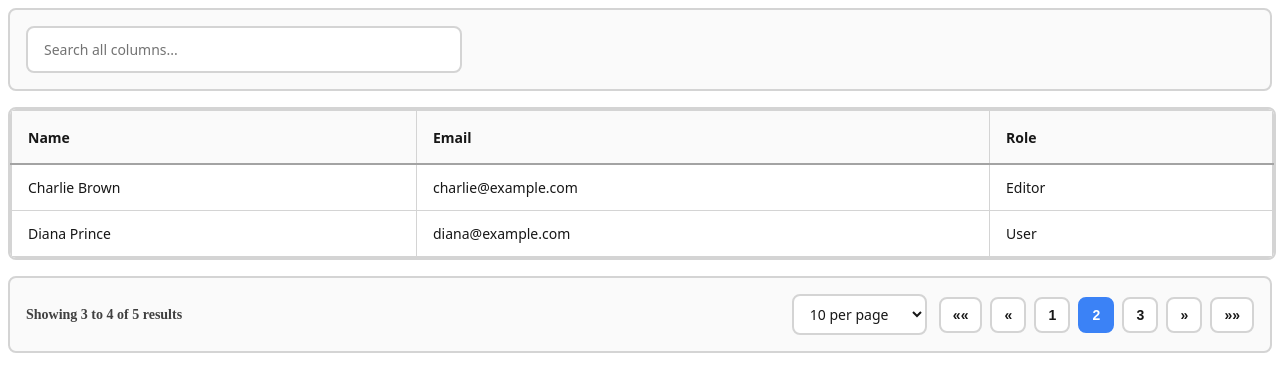
DataTable › Pagination › navigates to previous page
Click the button named "Previous page". click: (1008, 314)
box: [990,296,1026,332]
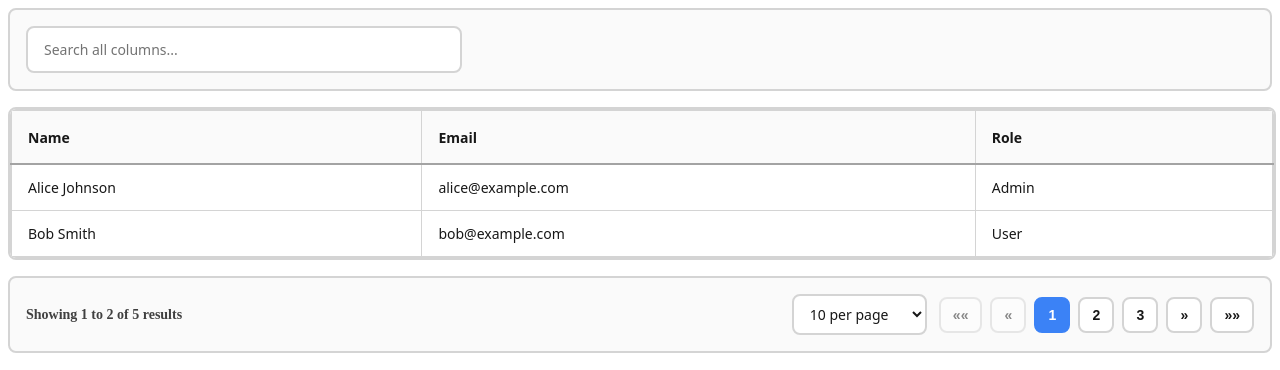
Check: the text "Alice Johnson" is shown, box [11,164,422,210]
Check: the text "Charlie Brown" is gone
